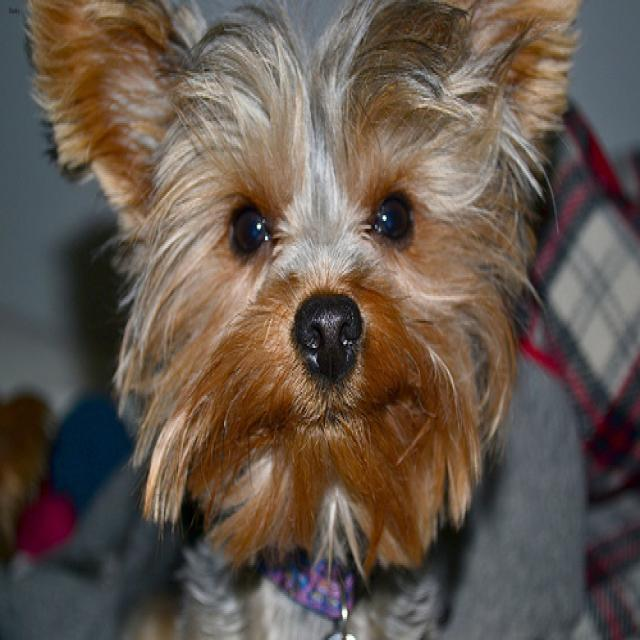dog-yorkshire_terrier: (13, 2, 593, 636)
